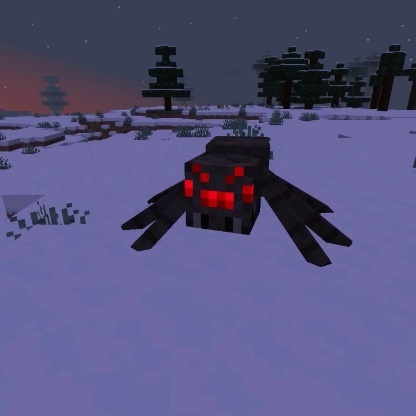spider: (116, 132, 355, 271)
